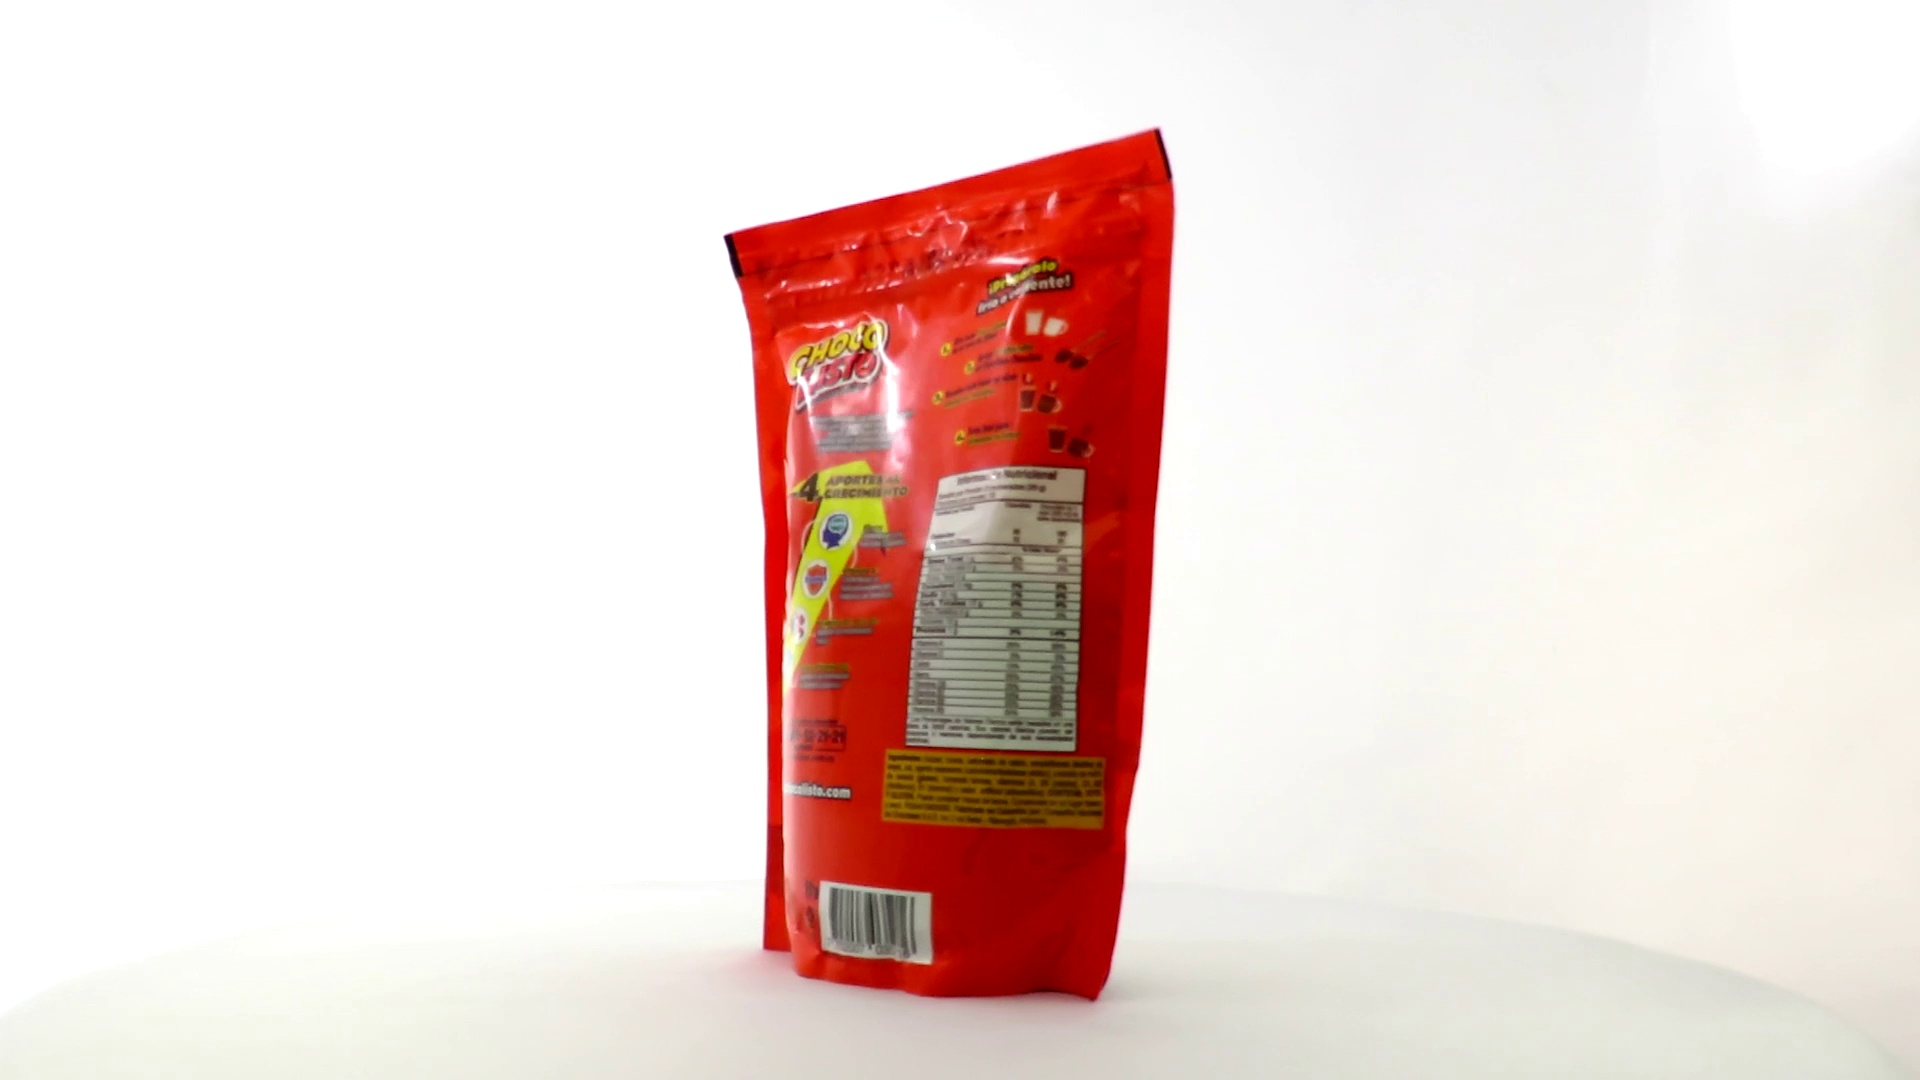COL0170103DYP36000: (719, 123, 1182, 1007)
